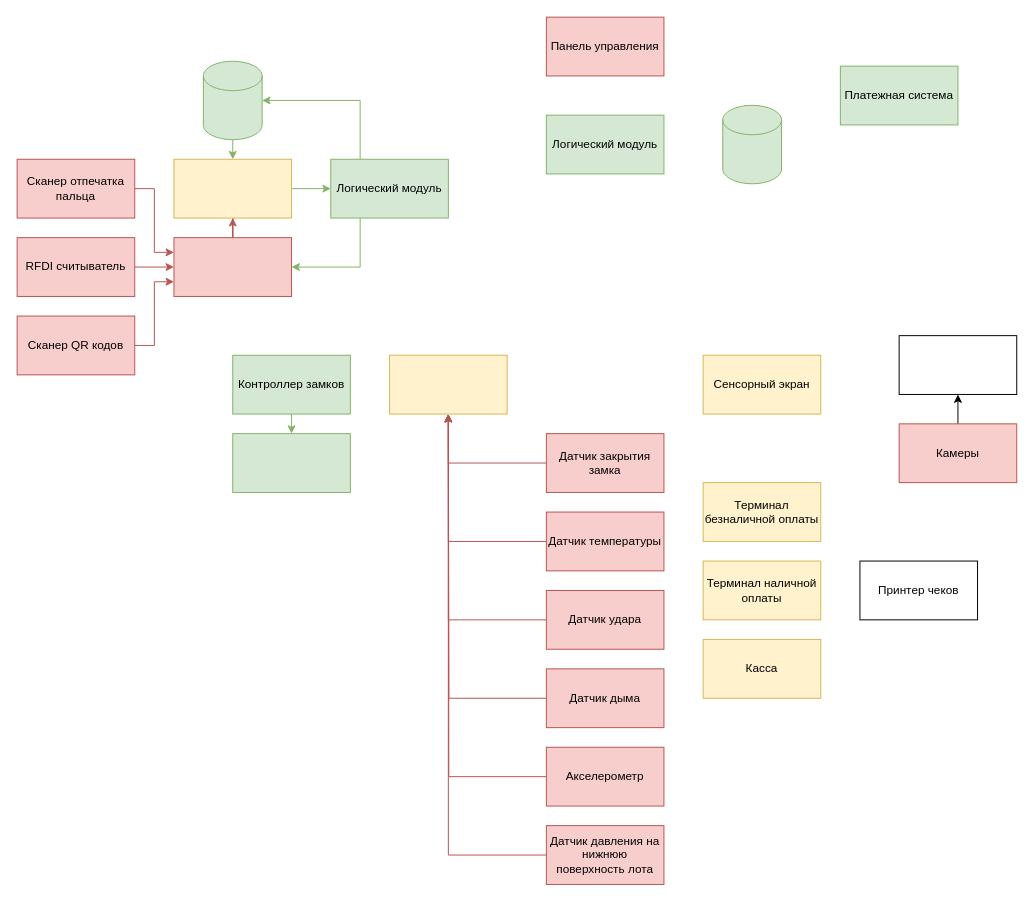
Some shapes in this 1034 by 902 pixel diagram are drawn without their labels. The box of each missing label's shape, as (x1, y1, x2, y2) in pixels:
BD: (722, 104, 782, 184)
Аутентификация: (173, 158, 292, 218)
данные авторизации: (202, 60, 262, 140)
Контроллер датчиков: (389, 354, 507, 414)
Контроллер камер: (898, 335, 1017, 394)
Контроллер средств авторизации: (173, 237, 292, 296)
Лот: (232, 433, 350, 492)
